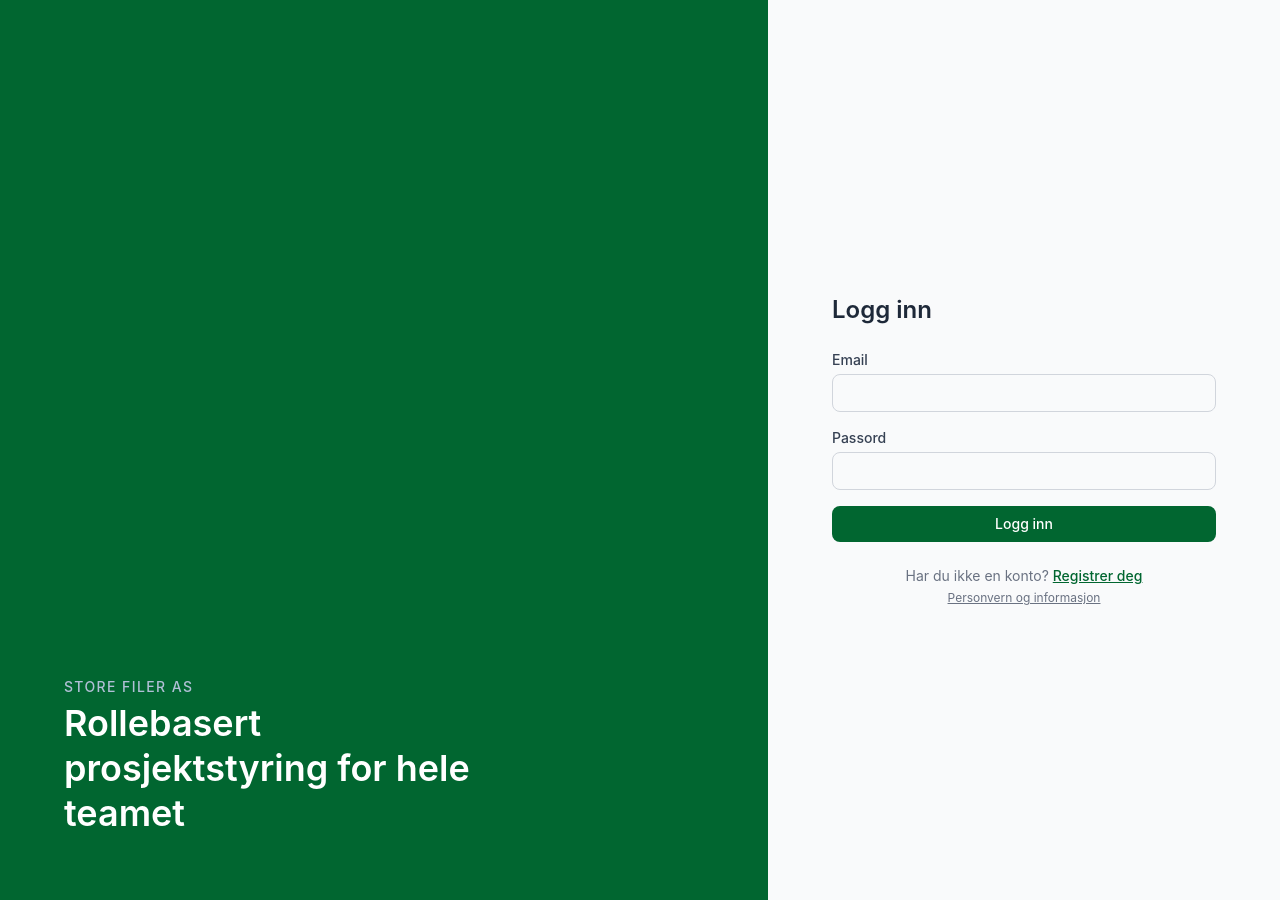
it: LoginPage › shows error message when login fails
Type "test@example.com" into the field with id "email" at {"x": 1024, "y": 393}, box [832,374,1216,412]
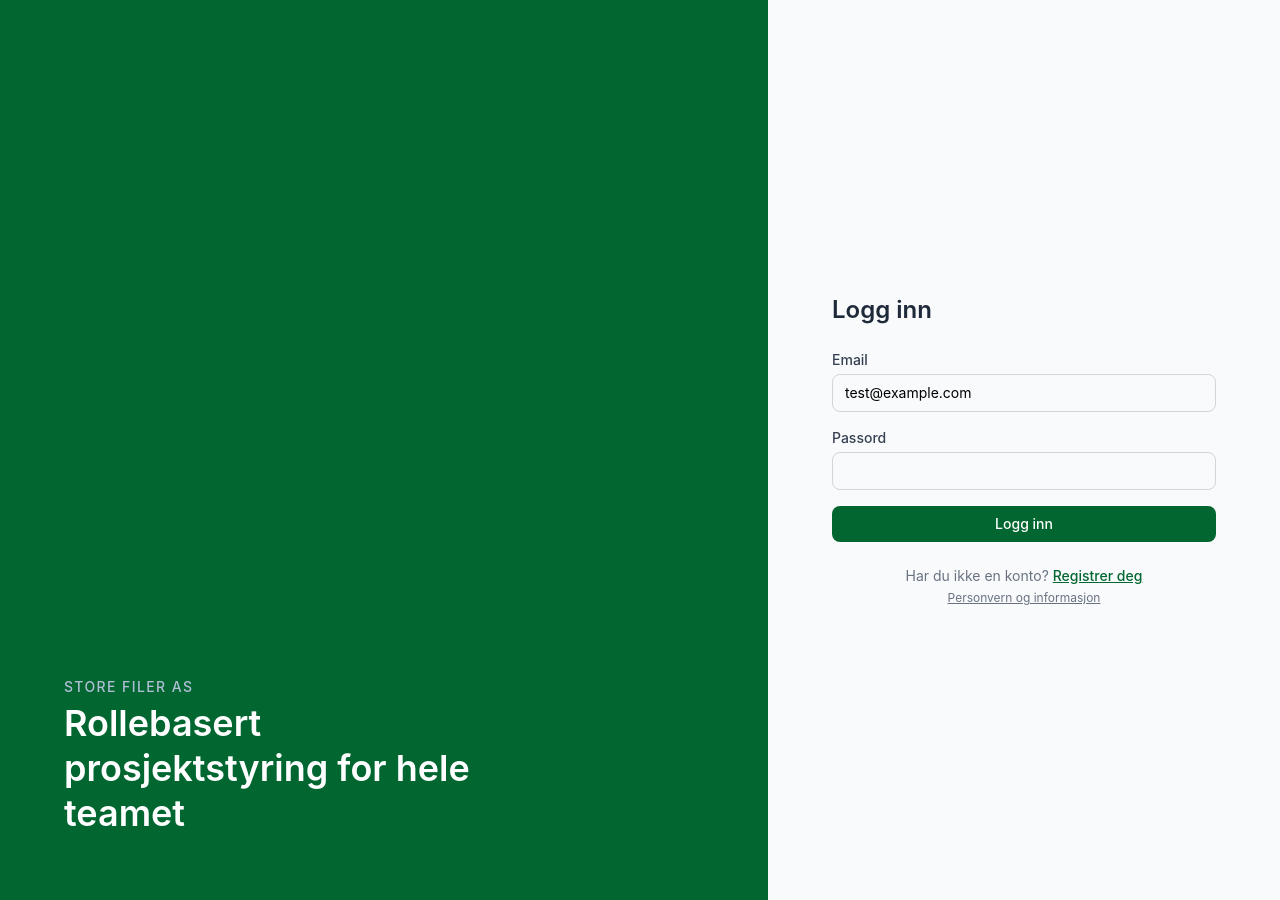
Type "wrong" into the password field labelled "Passord" at {"x": 1024, "y": 471}, box [832,452,1216,490]
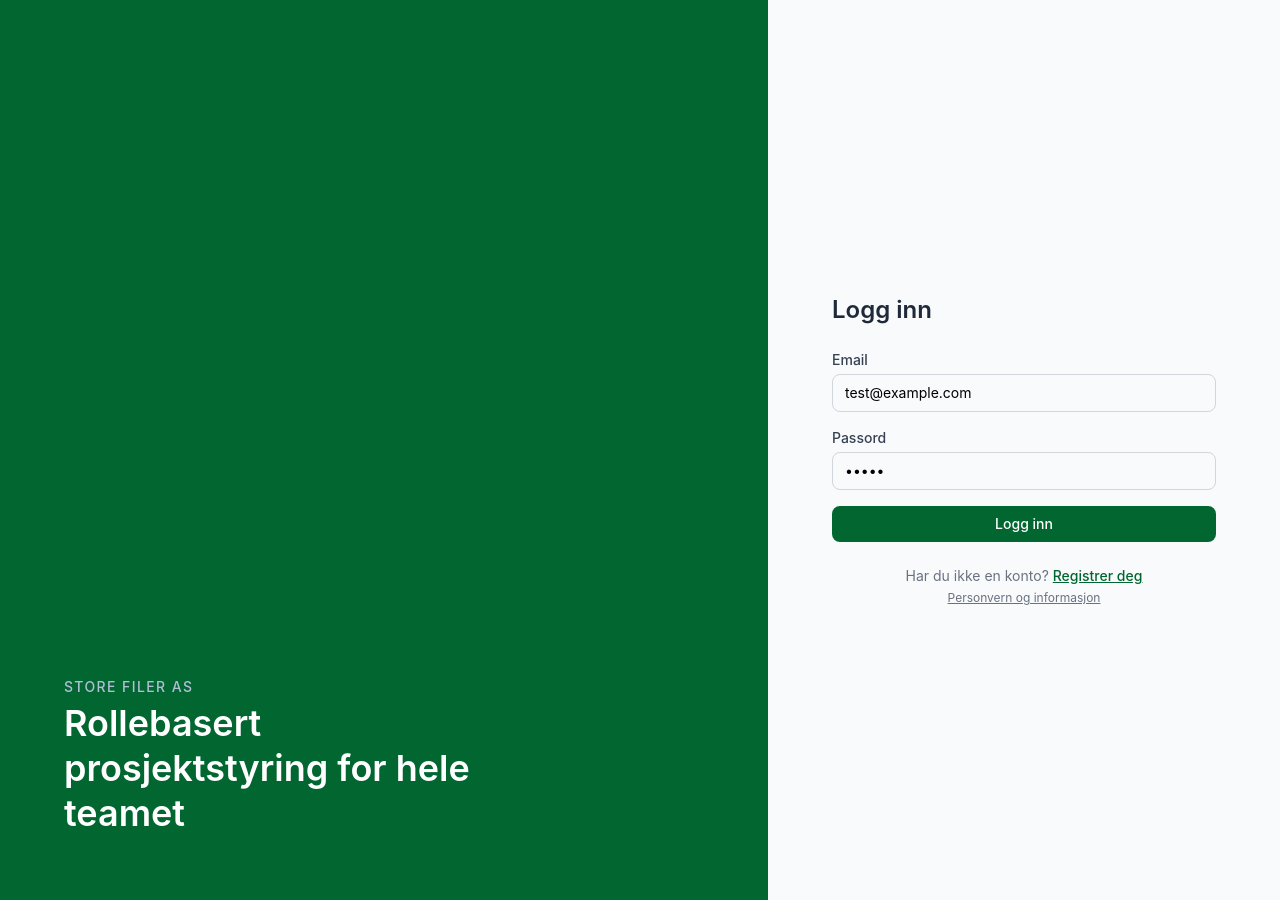
Submit the form, box [832,350,1216,542]
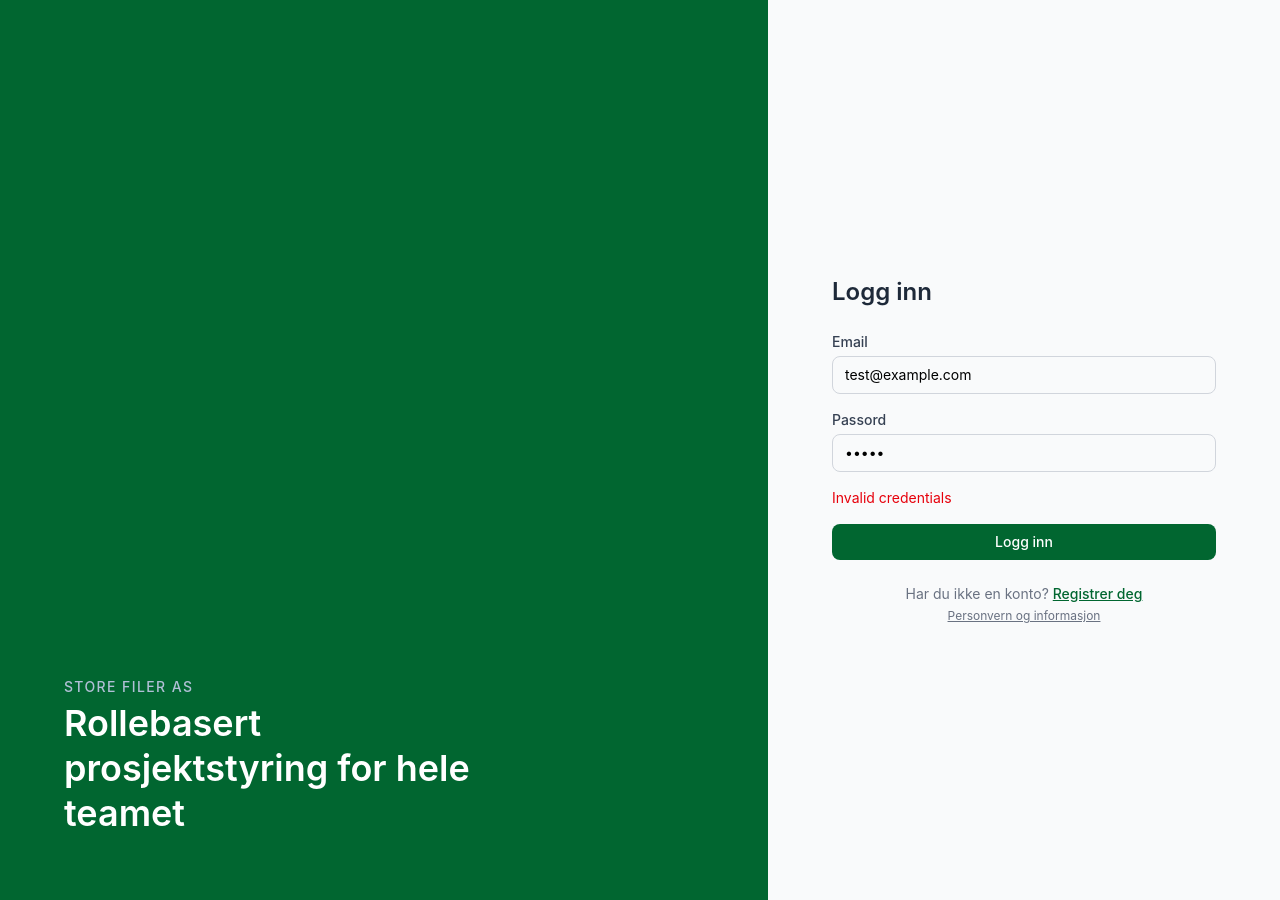
Expected: the text "Invalid credentials" is shown, [832,489,952,506]
